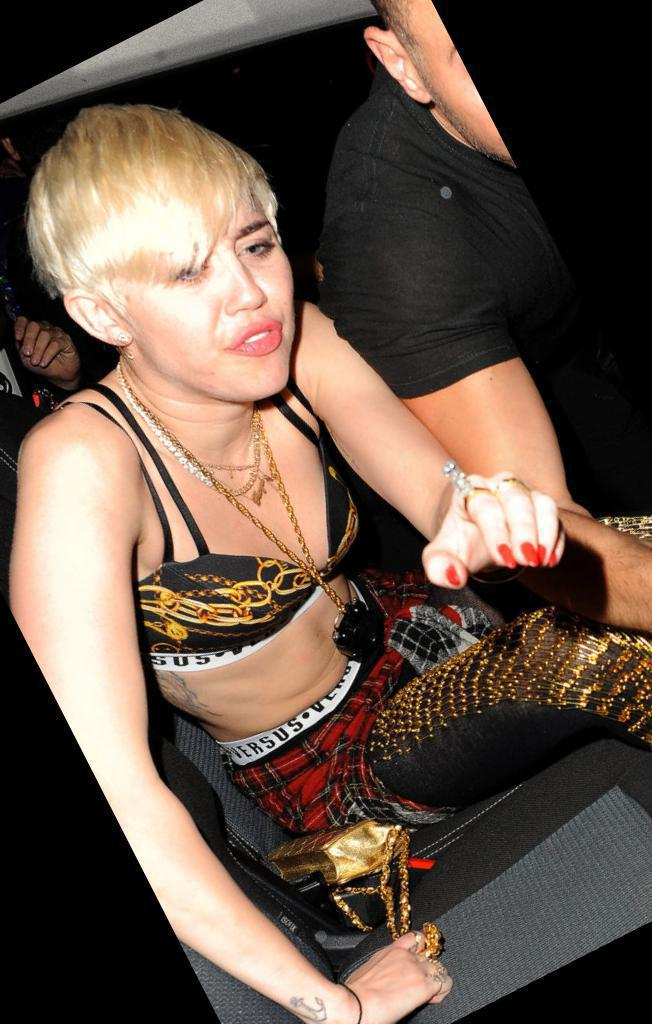Drunk: (129, 206, 297, 399)
